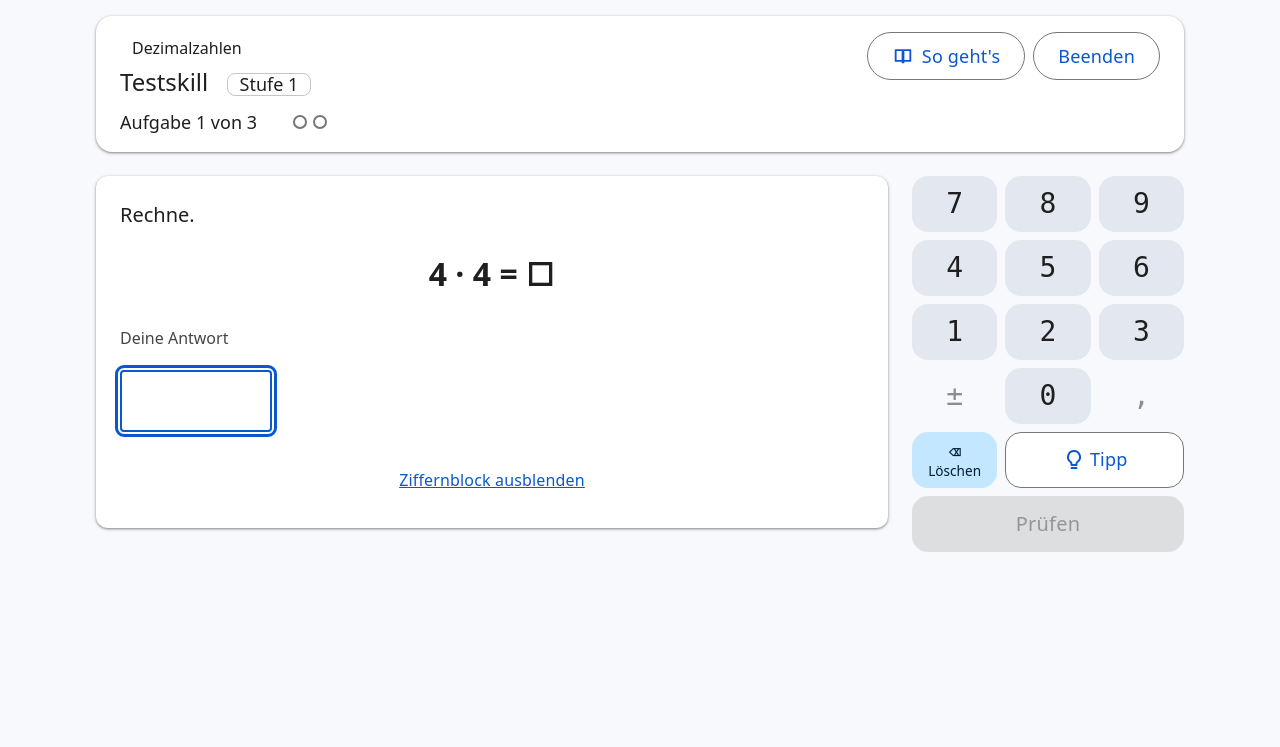
it: PracticePage: attempts, examples and focus › Ziffernblock: Prüfen with every field filled checks (like Enter)
Expected: the button "Prüfen" is shown, x1=912 y1=496 x2=1184 y2=552
Click the button "1" at (955, 332), box x1=912 y1=304 x2=997 y2=360
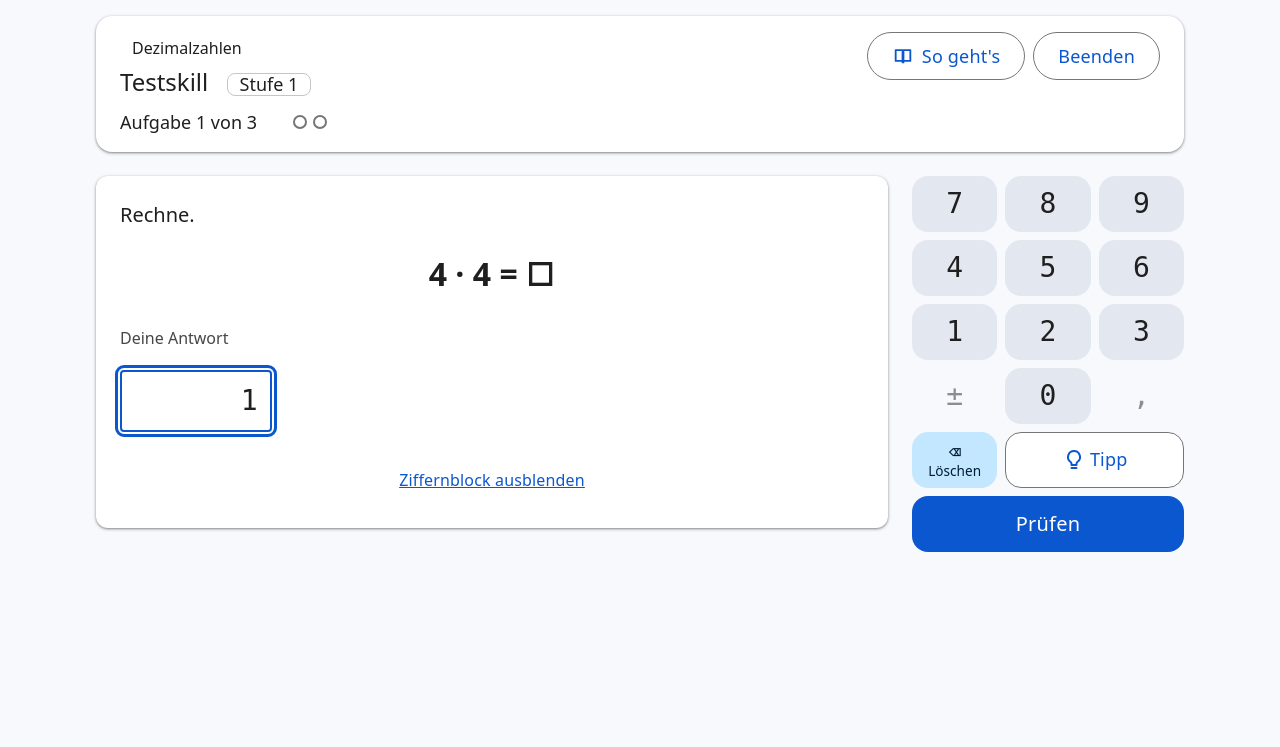
Click the button "6" at (1141, 268), box x1=1099 y1=240 x2=1184 y2=296
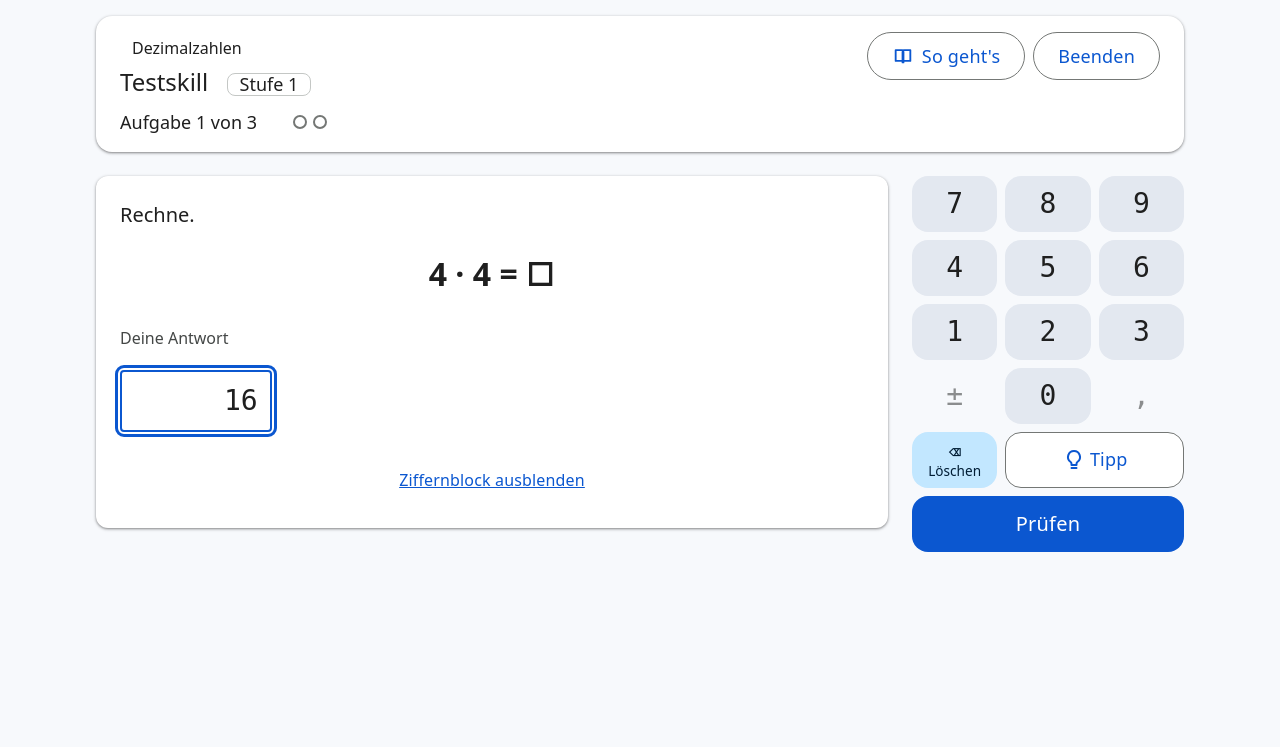
Click the button "Prüfen" at (1048, 524), box x1=912 y1=496 x2=1184 y2=552
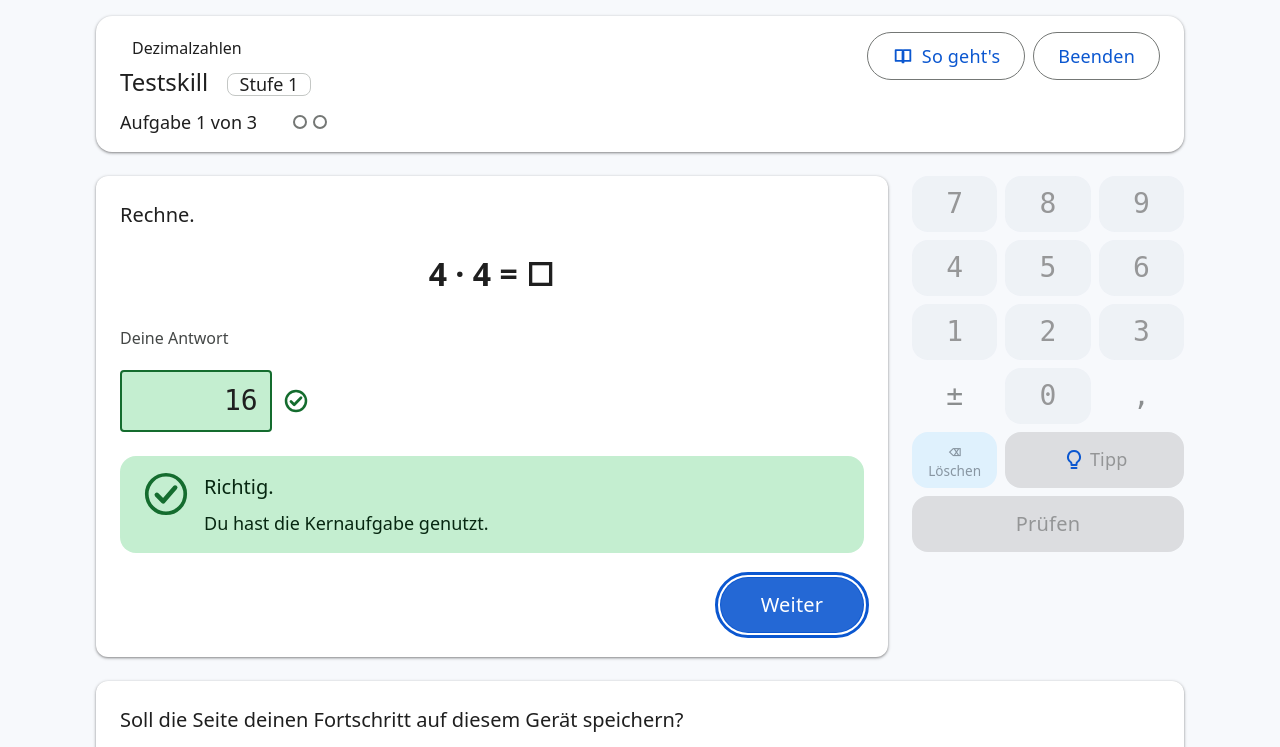
Expected: the text "Richtig." is shown, x1=204 y1=473 x2=274 y2=500
